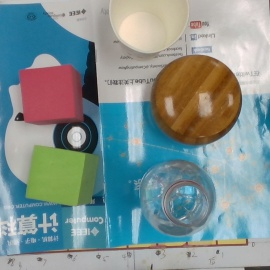bottle: (136, 159, 217, 235)
chess: (153, 55, 240, 146)
cup: (108, 1, 190, 63)
